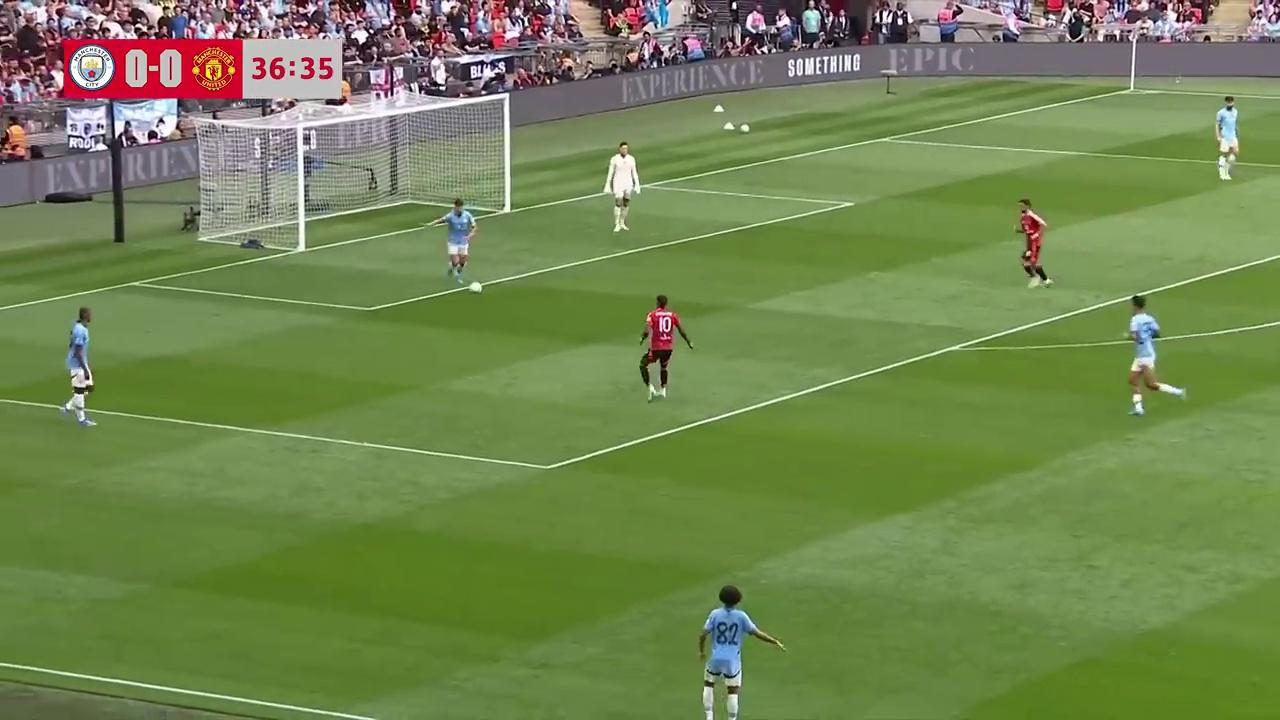ball: (469, 278, 484, 294)
player: (695, 586, 786, 720), (1126, 295, 1182, 417), (638, 294, 695, 401), (66, 306, 95, 426), (1014, 197, 1052, 287), (437, 202, 477, 282), (608, 140, 641, 233), (1215, 95, 1239, 180)
